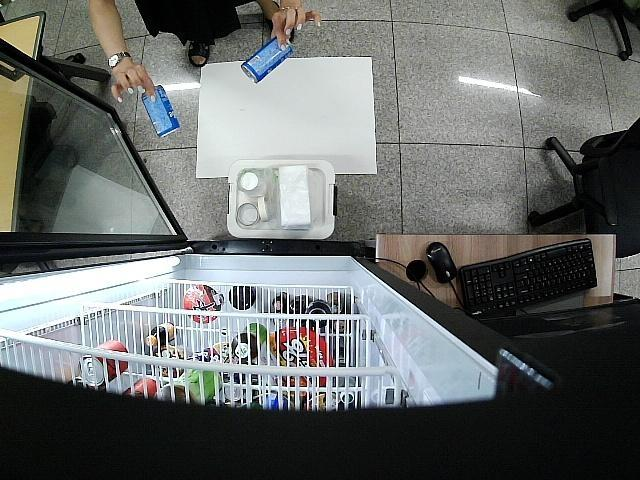15_letsbe: (242, 38, 293, 84), (142, 84, 180, 140)
